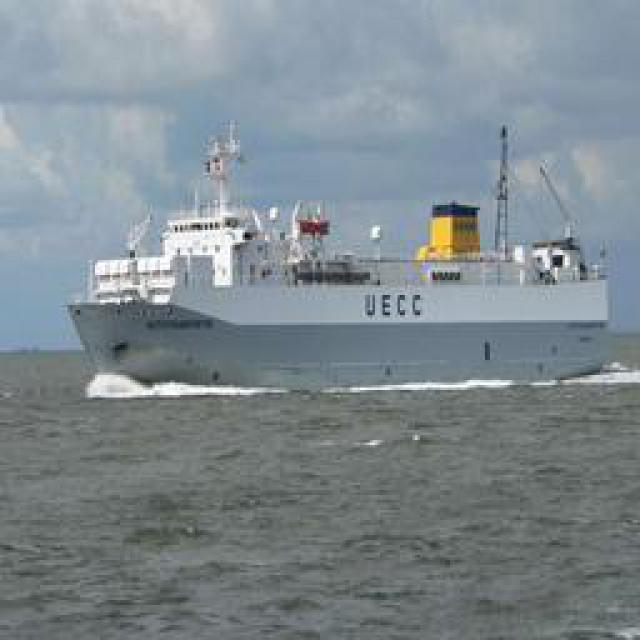Ship: (61, 120, 621, 385)
